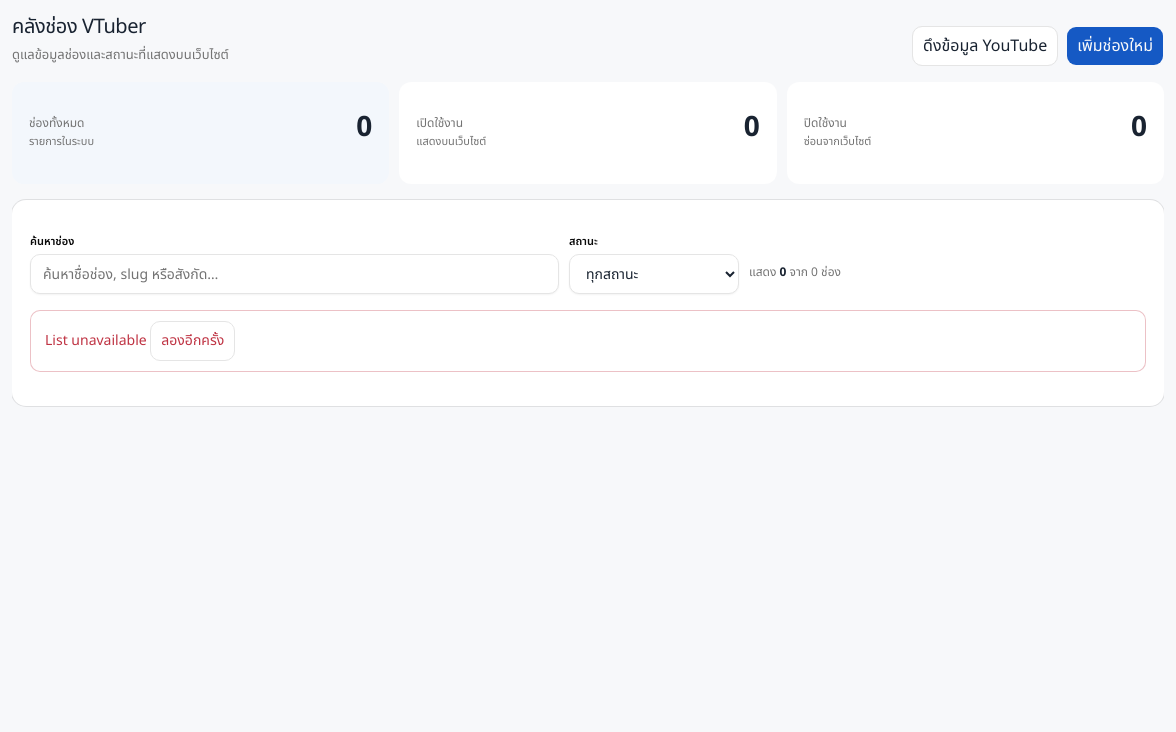
Test: keeps the channels error separate from empty data and offers a local retry
The width and height of the screenshot is (1176, 732).
Check: the message shows "List unavailable", box [45, 330, 147, 351]
Check: the text "ยังไม่มีช่อง VTuber" is not shown
Click the button "ลองอีกครั้ง" at (193, 341), box [150, 321, 235, 361]
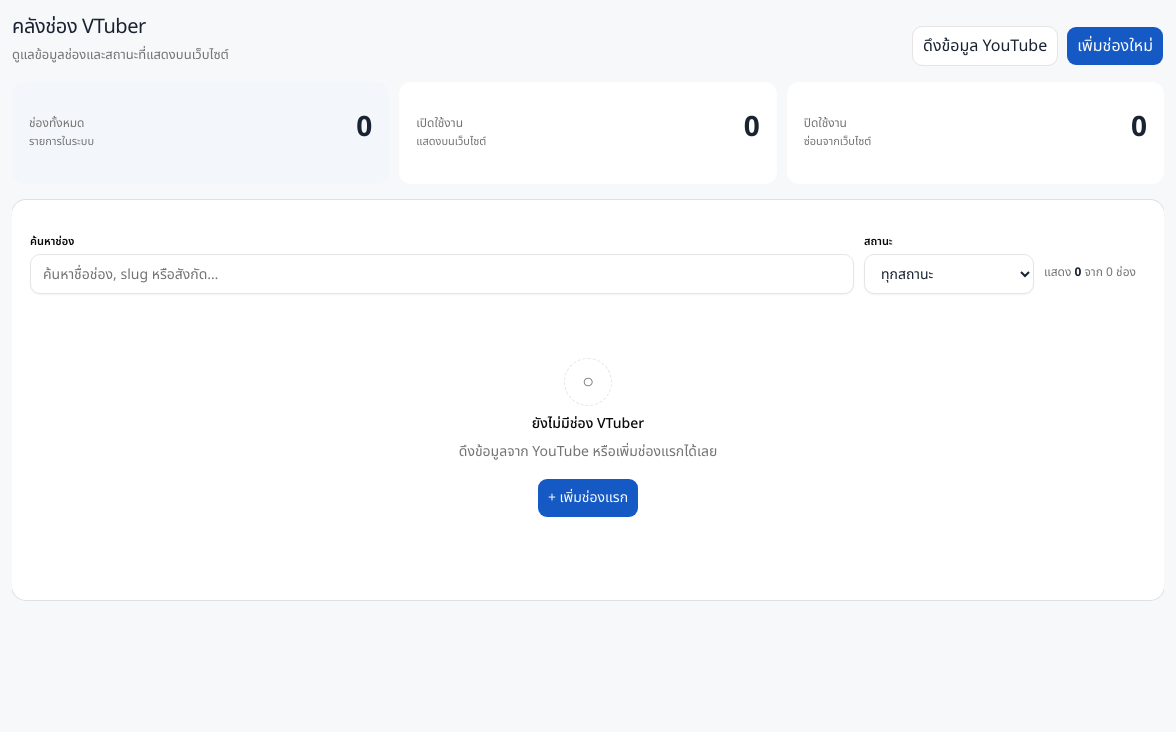
Check: the text "ยังไม่มีช่อง VTuber" is shown, box [532, 414, 644, 434]
Check: the message "List unavailable ลองอีกครั้ง" is gone
